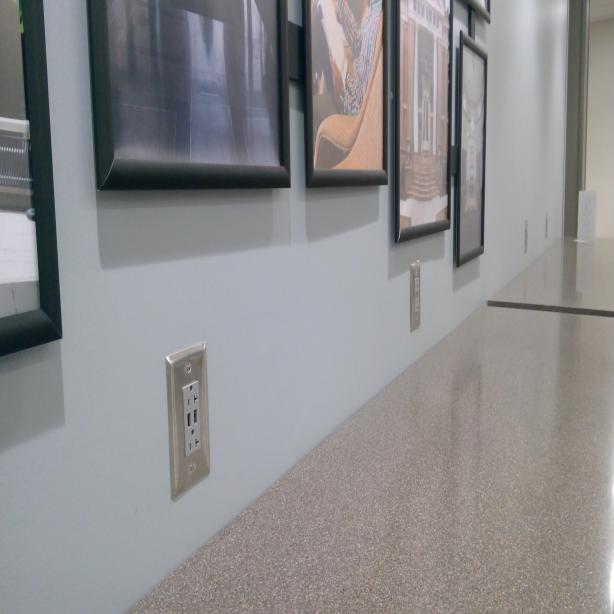typeb: (181, 381, 201, 408), (185, 427, 202, 453)
